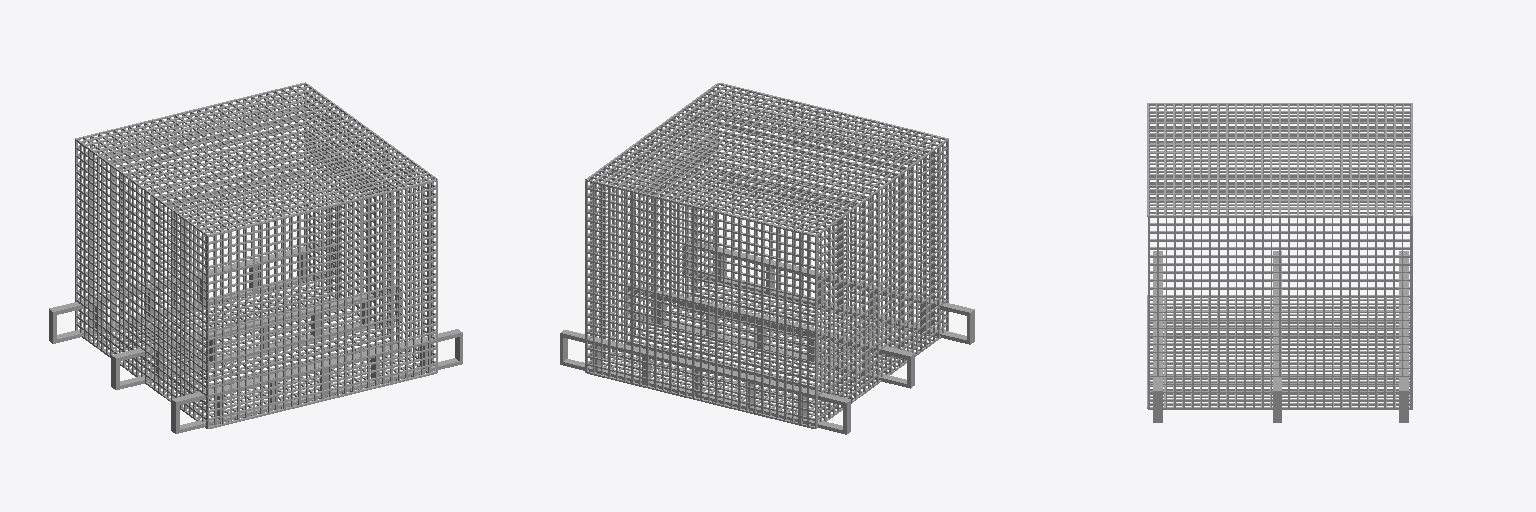
File: cage.obj
The picture shows the model from 3 angles: view 1: azimuth 30°, elevation 25°; view 2: azimuth 150°, elevation 25°; view 3: azimuth 270°, elevation 25°; orthographic projection.
Parts seen in each view (by area): view 1: 单个笼子; view 2: 单个笼子; view 3: 单个笼子.
Part boxes in pixels (left/top/right/bottom): 单个笼子: left=49, top=82, right=462, bottom=433; 单个笼子: left=560, top=83, right=974, bottom=434; 单个笼子: left=1147, top=103, right=1412, bottom=422.
Bounding box in the file's own units: 188 × 121 × 151.